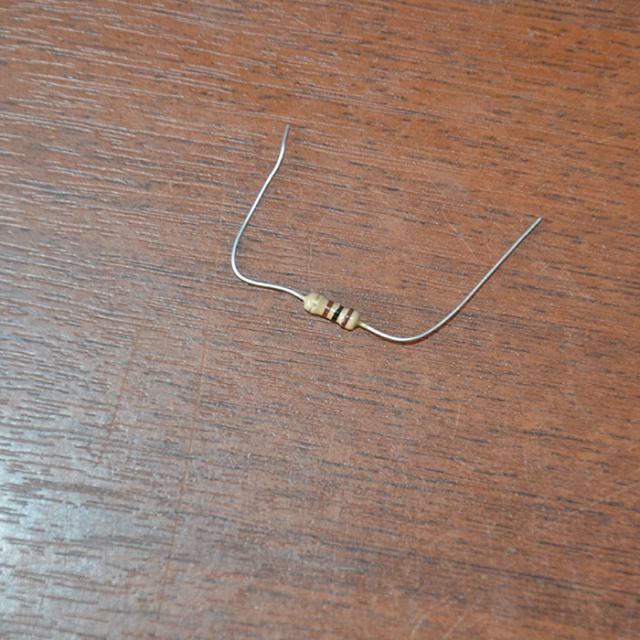Resistor Carbon-Film: (296, 286, 362, 336)
